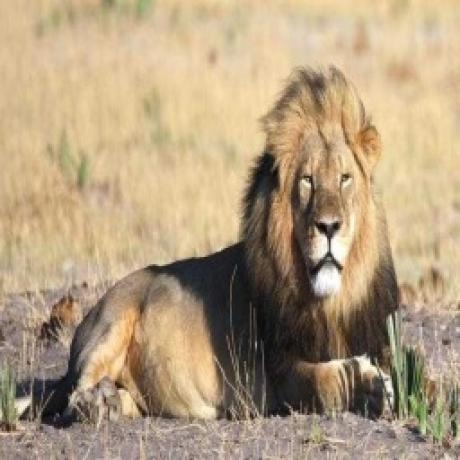Lion: (51, 62, 404, 422)
